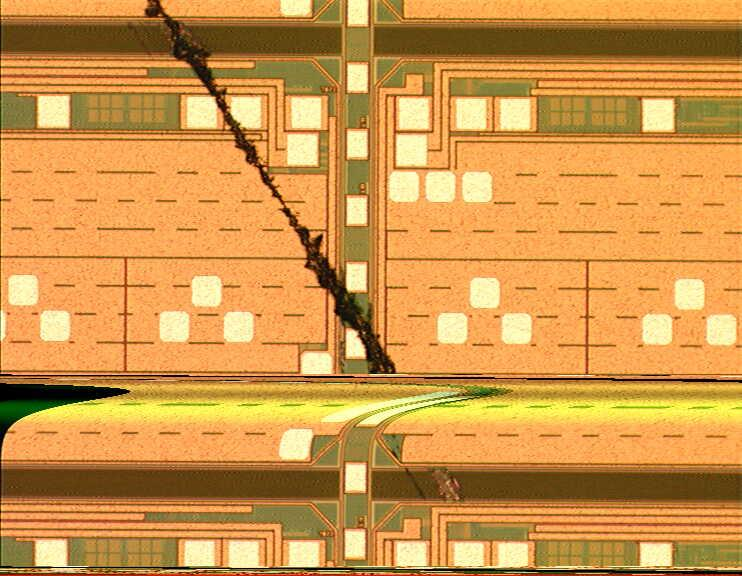SCRATCH: (137, 1, 404, 382)
